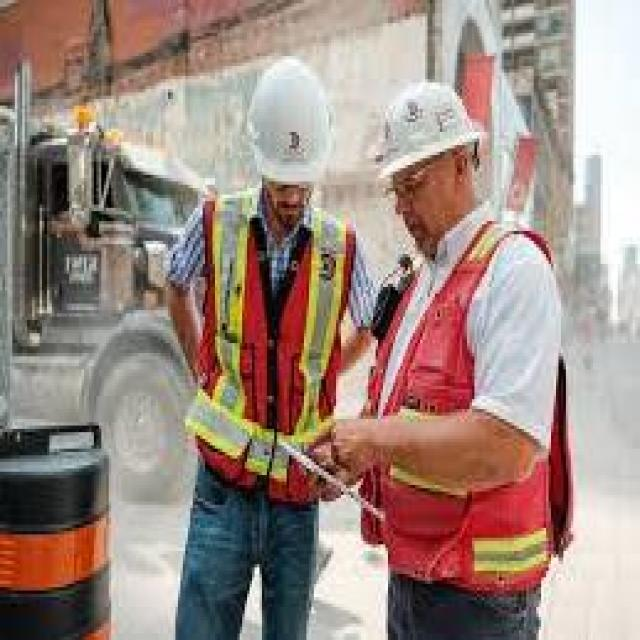Reflective-Jacket: (363, 221, 566, 600), (178, 205, 361, 508)
Safety-Helmet: (232, 46, 341, 195), (366, 69, 489, 188)
